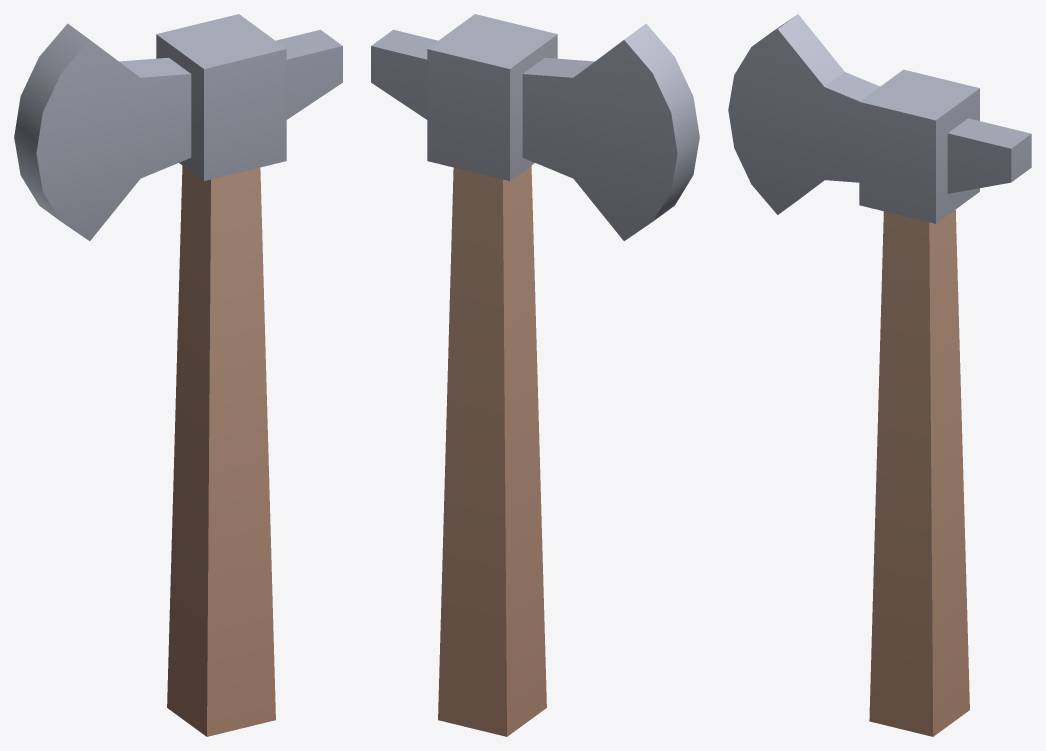
Rendered from tool-axe.glb.
3 views of the same model, side by side, from view 1: azimuth 30°, elevation 25°; view 2: azimuth 150°, elevation 25°; view 3: azimuth 330°, elevation 25° (orthographic). The views are drawn at different scales.
Visible parts, largest first — view 1: tool-axe; view 2: tool-axe; view 3: tool-axe.
Boxes of the visible parts, x1,y1,x2,y2 form: tool-axe: (14,14,342,736); tool-axe: (371,14,699,736); tool-axe: (728,14,1031,736).
Bounding box in the file's own units: 0.1145 × 0.256 × 0.0309.
